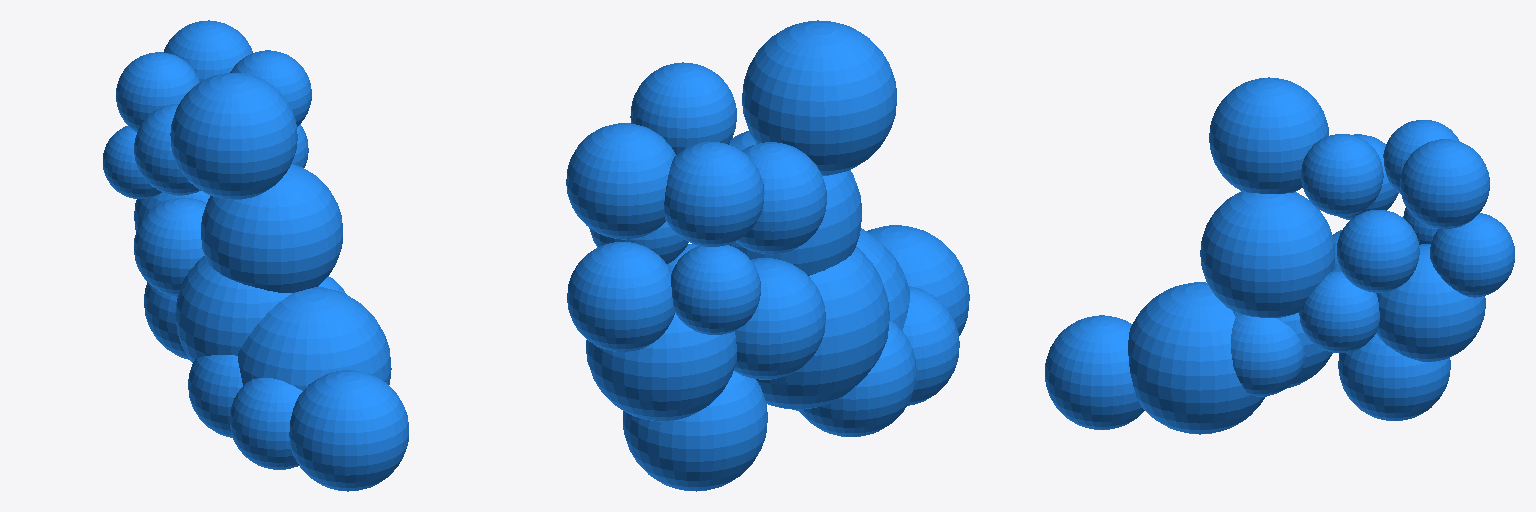
URDF robot description (boot):
<?xml version="1.0"?>
<robot name="boot">
  <!-- morphit:centroid 0.002671 0.028241 0.075855 -->
  <material name="default_color">
    <color rgba="0.200000 0.600000 1.000000 1.000000"/>
  </material>
  <link name="base">
    <inertial>
      <mass value="0.001000"/>
      <inertia ixx="0.000010" ixy="0.0" ixz="0.0" iyy="0.000010" iyz="0.0" izz="0.000010"/>
    </inertial>
  </link>
  <link name="sphere_0">
    <visual>
      <origin xyz="0 0 0" rpy="0 0 0"/>
      <geometry><sphere radius="0.028855"/></geometry>
      <material name="default_color"/>
    </visual>
    <collision>
      <origin xyz="0 0 0" rpy="0 0 0"/>
      <geometry><sphere radius="0.028855"/></geometry>
    </collision>
    <inertial>
      <mass value="0.059657"/>
      <inertia ixx="0.000020" ixy="0.0" ixz="0.0" iyy="0.000020" iyz="0.0" izz="0.000020"/>
    </inertial>
  </link>
  <joint name="sphere_0_fixed" type="fixed">
    <parent link="base"/>
    <child link="sphere_0"/>
    <origin xyz="0.002685 0.037795 -0.051083" rpy="0 0 0"/>
  </joint>
  <link name="sphere_1">
    <visual>
      <origin xyz="0 0 0" rpy="0 0 0"/>
      <geometry><sphere radius="0.034562"/></geometry>
      <material name="default_color"/>
    </visual>
    <collision>
      <origin xyz="0 0 0" rpy="0 0 0"/>
      <geometry><sphere radius="0.034562"/></geometry>
    </collision>
    <inertial>
      <mass value="0.102514"/>
      <inertia ixx="0.000049" ixy="0.0" ixz="0.0" iyy="0.000049" iyz="0.0" izz="0.000049"/>
    </inertial>
  </link>
  <joint name="sphere_1_fixed" type="fixed">
    <parent link="base"/>
    <child link="sphere_1"/>
    <origin xyz="0.003508 -0.026925 0.012054" rpy="0 0 0"/>
  </joint>
  <link name="sphere_2">
    <visual>
      <origin xyz="0 0 0" rpy="0 0 0"/>
      <geometry><sphere radius="0.023077"/></geometry>
      <material name="default_color"/>
    </visual>
    <collision>
      <origin xyz="0 0 0" rpy="0 0 0"/>
      <geometry><sphere radius="0.023077"/></geometry>
    </collision>
    <inertial>
      <mass value="0.030515"/>
      <inertia ixx="0.000007" ixy="0.0" ixz="0.0" iyy="0.000007" iyz="0.0" izz="0.000007"/>
    </inertial>
  </link>
  <joint name="sphere_2_fixed" type="fixed">
    <parent link="base"/>
    <child link="sphere_2"/>
    <origin xyz="0.020199 0.063578 0.058875" rpy="0 0 0"/>
  </joint>
  <link name="sphere_3">
    <visual>
      <origin xyz="0 0 0" rpy="0 0 0"/>
      <geometry><sphere radius="0.029351"/></geometry>
      <material name="default_color"/>
    </visual>
    <collision>
      <origin xyz="0 0 0" rpy="0 0 0"/>
      <geometry><sphere radius="0.029351"/></geometry>
    </collision>
    <inertial>
      <mass value="0.062781"/>
      <inertia ixx="0.000022" ixy="0.0" ixz="0.0" iyy="0.000022" iyz="0.0" izz="0.000022"/>
    </inertial>
  </link>
  <joint name="sphere_3_fixed" type="fixed">
    <parent link="base"/>
    <child link="sphere_3"/>
    <origin xyz="-0.002653 -0.111649 -0.058039" rpy="0 0 0"/>
  </joint>
  <link name="sphere_4">
    <visual>
      <origin xyz="0 0 0" rpy="0 0 0"/>
      <geometry><sphere radius="0.030208"/></geometry>
      <material name="default_color"/>
    </visual>
    <collision>
      <origin xyz="0 0 0" rpy="0 0 0"/>
      <geometry><sphere radius="0.030208"/></geometry>
    </collision>
    <inertial>
      <mass value="0.068444"/>
      <inertia ixx="0.000025" ixy="0.0" ixz="0.0" iyy="0.000025" iyz="0.0" izz="0.000025"/>
    </inertial>
  </link>
  <joint name="sphere_4_fixed" type="fixed">
    <parent link="base"/>
    <child link="sphere_4"/>
    <origin xyz="0.008339 0.054326 -0.013734" rpy="0 0 0"/>
  </joint>
  <link name="sphere_5">
    <visual>
      <origin xyz="0 0 0" rpy="0 0 0"/>
      <geometry><sphere radius="0.022262"/></geometry>
      <material name="default_color"/>
    </visual>
    <collision>
      <origin xyz="0 0 0" rpy="0 0 0"/>
      <geometry><sphere radius="0.022262"/></geometry>
    </collision>
    <inertial>
      <mass value="0.027394"/>
      <inertia ixx="0.000005" ixy="0.0" ixz="0.0" iyy="0.000005" iyz="0.0" izz="0.000005"/>
    </inertial>
  </link>
  <joint name="sphere_5_fixed" type="fixed">
    <parent link="base"/>
    <child link="sphere_5"/>
    <origin xyz="-0.021192 0.019170 0.043172" rpy="0 0 0"/>
  </joint>
  <link name="sphere_6">
    <visual>
      <origin xyz="0 0 0" rpy="0 0 0"/>
      <geometry><sphere radius="0.038936"/></geometry>
      <material name="default_color"/>
    </visual>
    <collision>
      <origin xyz="0 0 0" rpy="0 0 0"/>
      <geometry><sphere radius="0.038936"/></geometry>
    </collision>
    <inertial>
      <mass value="0.146564"/>
      <inertia ixx="0.000089" ixy="0.0" ixz="0.0" iyy="0.000089" iyz="0.0" izz="0.000089"/>
    </inertial>
  </link>
  <joint name="sphere_6_fixed" type="fixed">
    <parent link="base"/>
    <child link="sphere_6"/>
    <origin xyz="0.005330 -0.061415 -0.046193" rpy="0 0 0"/>
  </joint>
  <link name="sphere_7">
    <visual>
      <origin xyz="0 0 0" rpy="0 0 0"/>
      <geometry><sphere radius="0.021184"/></geometry>
      <material name="default_color"/>
    </visual>
    <collision>
      <origin xyz="0 0 0" rpy="0 0 0"/>
      <geometry><sphere radius="0.021184"/></geometry>
    </collision>
    <inertial>
      <mass value="0.023604"/>
      <inertia ixx="0.000004" ixy="0.0" ixz="0.0" iyy="0.000004" iyz="0.0" izz="0.000004"/>
    </inertial>
  </link>
  <joint name="sphere_7_fixed" type="fixed">
    <parent link="base"/>
    <child link="sphere_7"/>
    <origin xyz="0.023344 0.011094 0.065498" rpy="0 0 0"/>
  </joint>
  <link name="sphere_8">
    <visual>
      <origin xyz="0 0 0" rpy="0 0 0"/>
      <geometry><sphere radius="0.036541"/></geometry>
      <material name="default_color"/>
    </visual>
    <collision>
      <origin xyz="0 0 0" rpy="0 0 0"/>
      <geometry><sphere radius="0.036541"/></geometry>
    </collision>
    <inertial>
      <mass value="0.121153"/>
      <inertia ixx="0.000065" ixy="0.0" ixz="0.0" iyy="0.000065" iyz="0.0" izz="0.000065"/>
    </inertial>
  </link>
  <joint name="sphere_8_fixed" type="fixed">
    <parent link="base"/>
    <child link="sphere_8"/>
    <origin xyz="-0.007530 -0.025645 -0.030152" rpy="0 0 0"/>
  </joint>
  <link name="sphere_9">
    <visual>
      <origin xyz="0 0 0" rpy="0 0 0"/>
      <geometry><sphere radius="0.018342"/></geometry>
      <material name="default_color"/>
    </visual>
    <collision>
      <origin xyz="0 0 0" rpy="0 0 0"/>
      <geometry><sphere radius="0.018342"/></geometry>
    </collision>
    <inertial>
      <mass value="0.015323"/>
      <inertia ixx="0.000002" ixy="0.0" ixz="0.0" iyy="0.000002" iyz="0.0" izz="0.000002"/>
    </inertial>
  </link>
  <joint name="sphere_9_fixed" type="fixed">
    <parent link="base"/>
    <child link="sphere_9"/>
    <origin xyz="-0.019379 0.060433 0.019786" rpy="0 0 0"/>
  </joint>
  <link name="sphere_10">
    <visual>
      <origin xyz="0 0 0" rpy="0 0 0"/>
      <geometry><sphere radius="0.021938"/></geometry>
      <material name="default_color"/>
    </visual>
    <collision>
      <origin xyz="0 0 0" rpy="0 0 0"/>
      <geometry><sphere radius="0.021938"/></geometry>
    </collision>
    <inertial>
      <mass value="0.026216"/>
      <inertia ixx="0.000005" ixy="0.0" ixz="0.0" iyy="0.000005" iyz="0.0" izz="0.000005"/>
    </inertial>
  </link>
  <joint name="sphere_10_fixed" type="fixed">
    <parent link="base"/>
    <child link="sphere_10"/>
    <origin xyz="0.013028 0.077624 0.015693" rpy="0 0 0"/>
  </joint>
  <link name="sphere_11">
    <visual>
      <origin xyz="0 0 0" rpy="0 0 0"/>
      <geometry><sphere radius="0.024163"/></geometry>
      <material name="default_color"/>
    </visual>
    <collision>
      <origin xyz="0 0 0" rpy="0 0 0"/>
      <geometry><sphere radius="0.024163"/></geometry>
    </collision>
    <inertial>
      <mass value="0.035031"/>
      <inertia ixx="0.000008" ixy="0.0" ixz="0.0" iyy="0.000008" iyz="0.0" izz="0.000008"/>
    </inertial>
  </link>
  <joint name="sphere_11_fixed" type="fixed">
    <parent link="base"/>
    <child link="sphere_11"/>
    <origin xyz="-0.018820 0.019736 -0.009783" rpy="0 0 0"/>
  </joint>
  <link name="sphere_12">
    <visual>
      <origin xyz="0 0 0" rpy="0 0 0"/>
      <geometry><sphere radius="0.030826"/></geometry>
      <material name="default_color"/>
    </visual>
    <collision>
      <origin xyz="0 0 0" rpy="0 0 0"/>
      <geometry><sphere radius="0.030826"/></geometry>
    </collision>
    <inertial>
      <mass value="0.072731"/>
      <inertia ixx="0.000028" ixy="0.0" ixz="0.0" iyy="0.000028" iyz="0.0" izz="0.000028"/>
    </inertial>
  </link>
  <joint name="sphere_12_fixed" type="fixed">
    <parent link="base"/>
    <child link="sphere_12"/>
    <origin xyz="-0.017208 -0.026185 0.067607" rpy="0 0 0"/>
  </joint>
  <link name="sphere_13">
    <visual>
      <origin xyz="0 0 0" rpy="0 0 0"/>
      <geometry><sphere radius="0.021288"/></geometry>
      <material name="default_color"/>
    </visual>
    <collision>
      <origin xyz="0 0 0" rpy="0 0 0"/>
      <geometry><sphere radius="0.021288"/></geometry>
    </collision>
    <inertial>
      <mass value="0.023953"/>
      <inertia ixx="0.000004" ixy="0.0" ixz="0.0" iyy="0.000004" iyz="0.0" izz="0.000004"/>
    </inertial>
  </link>
  <joint name="sphere_13_fixed" type="fixed">
    <parent link="base"/>
    <child link="sphere_13"/>
    <origin xyz="0.031940 0.029426 0.026605" rpy="0 0 0"/>
  </joint>
  <link name="sphere_14">
    <visual>
      <origin xyz="0 0 0" rpy="0 0 0"/>
      <geometry><sphere radius="0.024079"/></geometry>
      <material name="default_color"/>
    </visual>
    <collision>
      <origin xyz="0 0 0" rpy="0 0 0"/>
      <geometry><sphere radius="0.024079"/></geometry>
    </collision>
    <inertial>
      <mass value="0.034667"/>
      <inertia ixx="0.000008" ixy="0.0" ixz="0.0" iyy="0.000008" iyz="0.0" izz="0.000008"/>
    </inertial>
  </link>
  <joint name="sphere_14_fixed" type="fixed">
    <parent link="base"/>
    <child link="sphere_14"/>
    <origin xyz="-0.022775 -0.079402 -0.060719" rpy="0 0 0"/>
  </joint>
  <link name="sphere_15">
    <visual>
      <origin xyz="0 0 0" rpy="0 0 0"/>
      <geometry><sphere radius="0.023469"/></geometry>
      <material name="default_color"/>
    </visual>
    <collision>
      <origin xyz="0 0 0" rpy="0 0 0"/>
      <geometry><sphere radius="0.023469"/></geometry>
    </collision>
    <inertial>
      <mass value="0.032096"/>
      <inertia ixx="0.000007" ixy="0.0" ixz="0.0" iyy="0.000007" iyz="0.0" izz="0.000007"/>
    </inertial>
  </link>
  <joint name="sphere_15_fixed" type="fixed">
    <parent link="base"/>
    <child link="sphere_15"/>
    <origin xyz="0.019174 -0.030963 -0.035580" rpy="0 0 0"/>
  </joint>
  <link name="sphere_16">
    <visual>
      <origin xyz="0 0 0" rpy="0 0 0"/>
      <geometry><sphere radius="0.025939"/></geometry>
      <material name="default_color"/>
    </visual>
    <collision>
      <origin xyz="0 0 0" rpy="0 0 0"/>
      <geometry><sphere radius="0.025939"/></geometry>
    </collision>
    <inertial>
      <mass value="0.043334"/>
      <inertia ixx="0.000012" ixy="0.0" ixz="0.0" iyy="0.000012" iyz="0.0" izz="0.000012"/>
    </inertial>
  </link>
  <joint name="sphere_16_fixed" type="fixed">
    <parent link="base"/>
    <child link="sphere_16"/>
    <origin xyz="-0.022369 -0.042382 -0.057204" rpy="0 0 0"/>
  </joint>
  <link name="sphere_17">
    <visual>
      <origin xyz="0 0 0" rpy="0 0 0"/>
      <geometry><sphere radius="0.020927"/></geometry>
      <material name="default_color"/>
    </visual>
    <collision>
      <origin xyz="0 0 0" rpy="0 0 0"/>
      <geometry><sphere radius="0.020927"/></geometry>
    </collision>
    <inertial>
      <mass value="0.022758"/>
      <inertia ixx="0.000004" ixy="0.0" ixz="0.0" iyy="0.000004" iyz="0.0" izz="0.000004"/>
    </inertial>
  </link>
  <joint name="sphere_17_fixed" type="fixed">
    <parent link="base"/>
    <child link="sphere_17"/>
    <origin xyz="-0.013466 0.052716 0.056569" rpy="0 0 0"/>
  </joint>
  <link name="sphere_18">
    <visual>
      <origin xyz="0 0 0" rpy="0 0 0"/>
      <geometry><sphere radius="0.022333"/></geometry>
      <material name="default_color"/>
    </visual>
    <collision>
      <origin xyz="0 0 0" rpy="0 0 0"/>
      <geometry><sphere radius="0.022333"/></geometry>
    </collision>
    <inertial>
      <mass value="0.027659"/>
      <inertia ixx="0.000006" ixy="0.0" ixz="0.0" iyy="0.000006" iyz="0.0" izz="0.000006"/>
    </inertial>
  </link>
  <joint name="sphere_18_fixed" type="fixed">
    <parent link="base"/>
    <child link="sphere_18"/>
    <origin xyz="-0.002163 -0.031447 0.009864" rpy="0 0 0"/>
  </joint>
  <link name="sphere_19">
    <visual>
      <origin xyz="0 0 0" rpy="0 0 0"/>
      <geometry><sphere radius="0.021184"/></geometry>
      <material name="default_color"/>
    </visual>
    <collision>
      <origin xyz="0 0 0" rpy="0 0 0"/>
      <geometry><sphere radius="0.021184"/></geometry>
    </collision>
    <inertial>
      <mass value="0.023606"/>
      <inertia ixx="0.000004" ixy="0.0" ixz="0.0" iyy="0.000004" iyz="0.0" izz="0.000004"/>
    </inertial>
  </link>
  <joint name="sphere_19_fixed" type="fixed">
    <parent link="base"/>
    <child link="sphere_19"/>
    <origin xyz="0.020006 0.010114 -0.013235" rpy="0 0 0"/>
  </joint>
</robot>

--- Render facts (derived) ---
3 views of the same robot in one strip: view 1: azimuth 30°, elevation 25°; view 2: azimuth 150°, elevation 25°; view 3: azimuth 270°, elevation 25° (orthographic).
Model boot with 21 links and 20 joints (20 fixed), rooted at base, posed every joint at zero.
Links seen in each view (by area): view 1: sphere_1, sphere_12, sphere_3, sphere_6, sphere_8, sphere_11, sphere_14, sphere_17, sphere_2, sphere_16, sphere_5, sphere_7 (+3 smaller); view 2: sphere_12, sphere_0, sphere_8, sphere_4, sphere_2, sphere_10, sphere_17, sphere_11, sphere_7, sphere_5, sphere_9, sphere_16 (+5 smaller); view 3: sphere_6, sphere_1, sphere_12, sphere_3, sphere_4, sphere_2, sphere_0, sphere_13, sphere_7, sphere_10, sphere_15, sphere_19 (+3 smaller).
Link boxes in pixels (x1,y1,x2,y2): sphere_1: (201,164,342,292); sphere_12: (170,73,297,199); sphere_3: (289,370,408,491); sphere_6: (238,287,391,390); sphere_8: (175,256,318,362); sphere_11: (134,198,206,296); sphere_14: (229,378,302,469); sphere_17: (116,52,199,131); sphere_2: (164,20,252,81); sphere_16: (188,355,242,437); sphere_5: (134,103,200,195); sphere_7: (230,50,311,126); sphere_12: (742,20,896,175); sphere_0: (623,371,767,491); sphere_8: (756,246,889,409); sphere_4: (586,270,736,421); sphere_2: (566,123,675,239); sphere_10: (567,242,674,351); sphere_17: (664,142,764,246); sphere_11: (734,258,825,379); sphere_7: (630,62,736,154); sphere_5: (736,142,826,254); sphere_9: (671,245,760,334); sphere_16: (799,320,916,436); sphere_6: (1128,282,1265,434); sphere_1: (1200,191,1335,317); sphere_12: (1209,77,1328,193); sphere_3: (1045,315,1144,429); sphere_4: (1376,244,1485,361); sphere_2: (1400,139,1489,228); sphere_0: (1338,333,1450,420); sphere_13: (1337,210,1419,292); sphere_7: (1301,134,1383,215); sphere_10: (1430,213,1514,297); sphere_15: (1231,315,1304,396); sphere_19: (1299,271,1379,352).
Size in the robot's own frame: 0.1015 by 0.2406 by 0.1858 metres.
Geometry: primitives only (box / cylinder / sphere), no mesh files.
